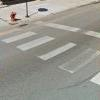Crosswalk: (11, 23, 100, 89)
